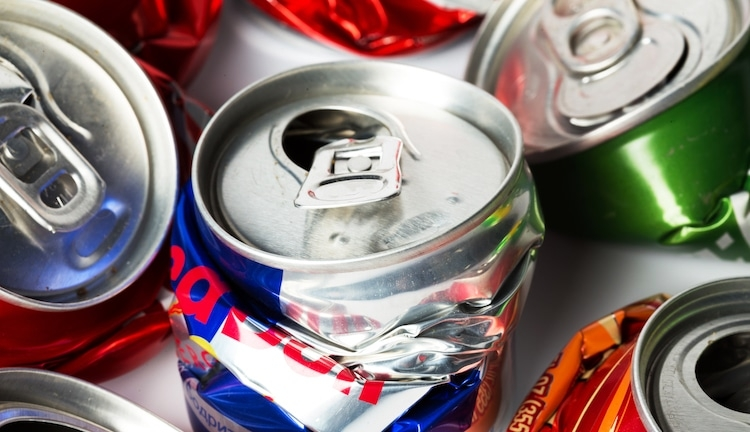metal: (158, 52, 550, 432), (450, 1, 750, 274), (1, 1, 199, 382), (498, 270, 750, 432)
